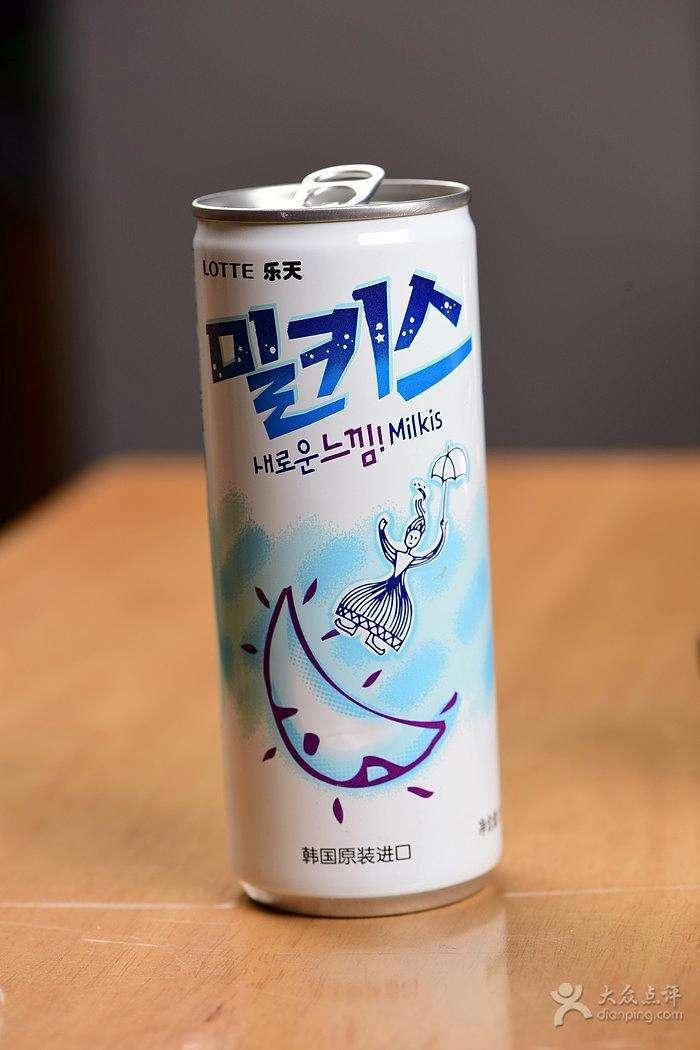metal: (180, 146, 523, 935)
